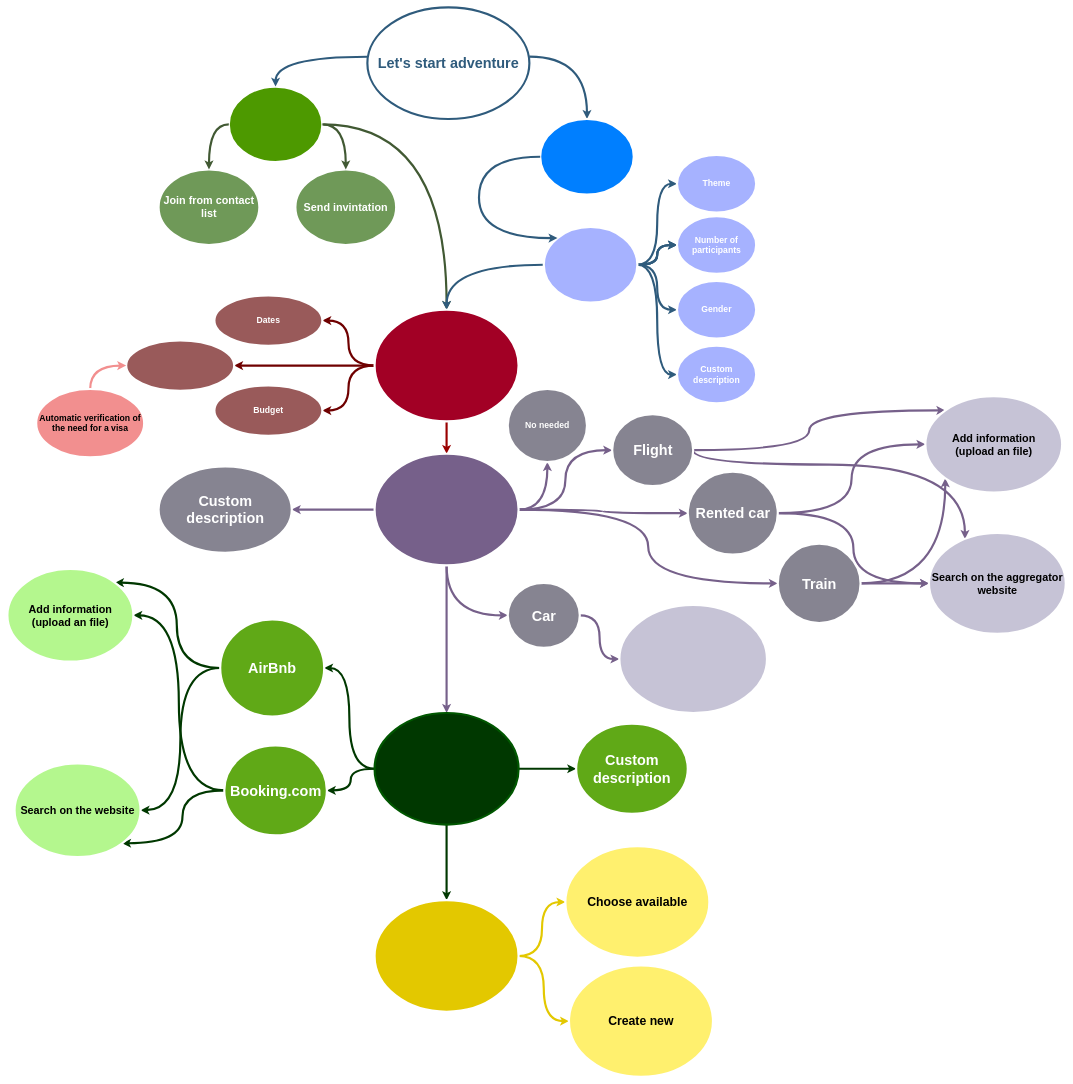
This 1073x1084 diagram has some shape labels left out. The shapes that lost their labels are listed below. From the top down, each one's box as (x1, y1, x2, y2) in pixels, then its label:
(228, 85, 323, 163): Collaborated trip
(539, 118, 635, 195): Invited trip
(543, 226, 638, 303): Set description
(125, 339, 235, 392): Direction
(373, 309, 519, 422): Basic characteristics
(373, 453, 519, 566): Transport
(618, 604, 768, 714): Automatic calculation of the fuel cost based on the direction
(373, 712, 519, 825): Accommodation
(373, 899, 519, 1013): Activity
